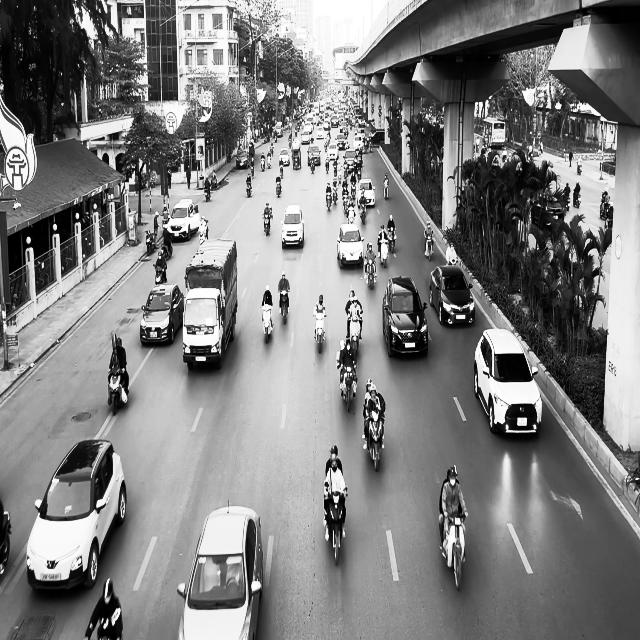bus: (482, 116, 507, 148)
car: (26, 438, 127, 592), (176, 502, 264, 639), (473, 328, 542, 436), (382, 275, 428, 358), (429, 264, 475, 326), (140, 284, 184, 346), (166, 198, 200, 241), (336, 223, 365, 268), (280, 204, 305, 248), (356, 178, 376, 207), (236, 150, 249, 168), (278, 147, 290, 166)
motorbike: (440, 511, 468, 590), (323, 480, 347, 564), (363, 402, 385, 472), (338, 359, 357, 413), (260, 303, 274, 343), (313, 312, 326, 353), (278, 289, 290, 324), (364, 258, 377, 288), (153, 261, 167, 285), (424, 231, 433, 260), (262, 210, 272, 236), (199, 220, 208, 245), (573, 188, 581, 207)
truck: (182, 238, 238, 370)
